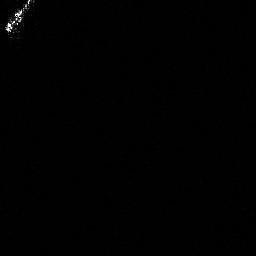ship: (3, 1, 37, 38)
